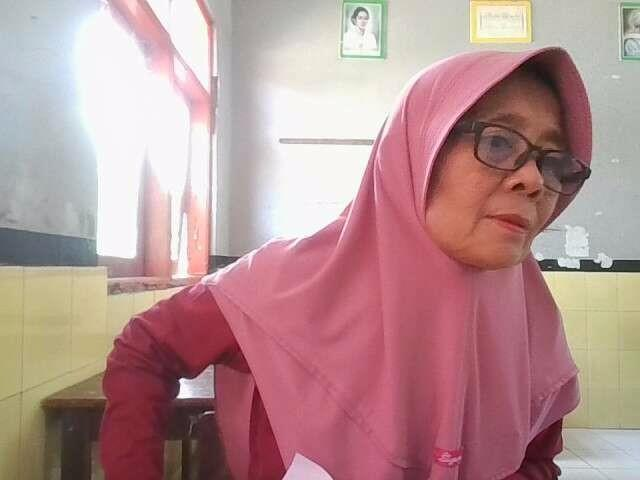cheating: (85, 37, 615, 480)
